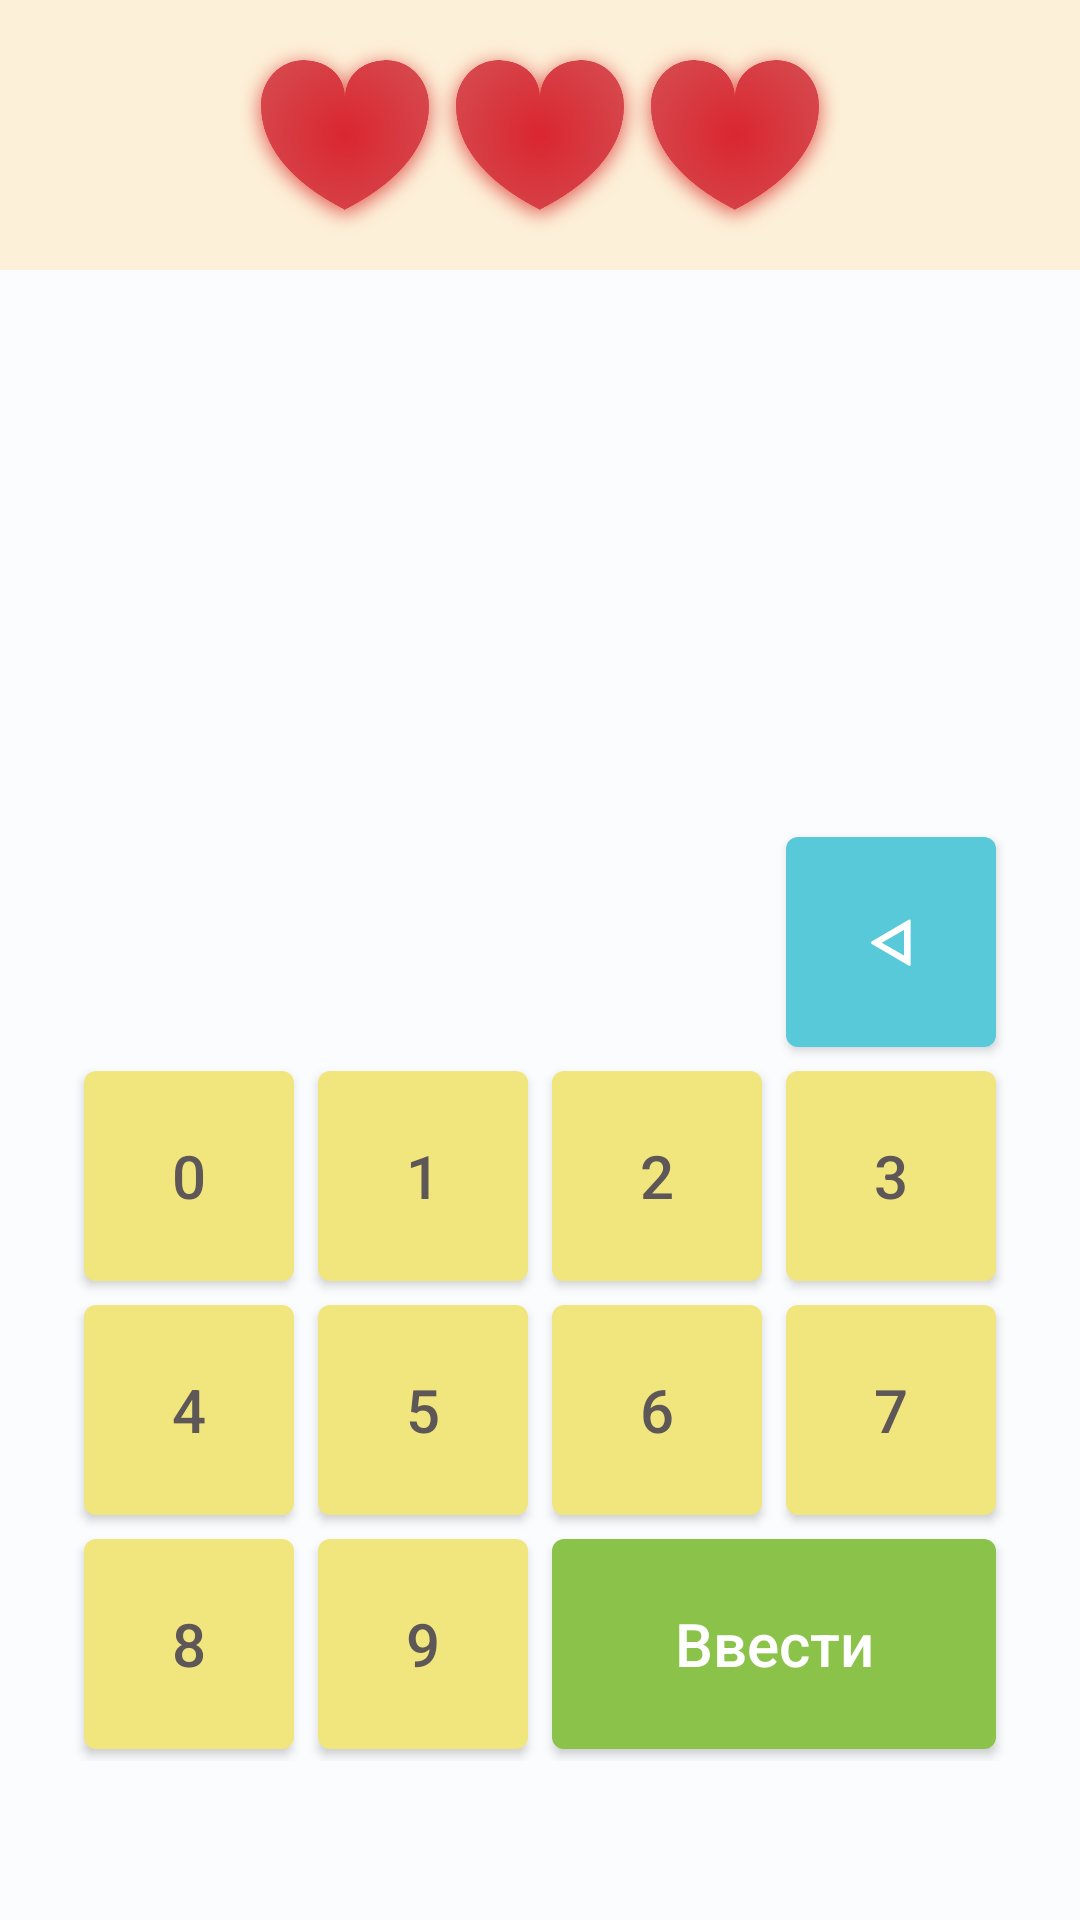

Icon click points for this 1080 x 1920 phone screenshot, format [x,y]:
heart up: [346,138], [539,138], [733,138]
